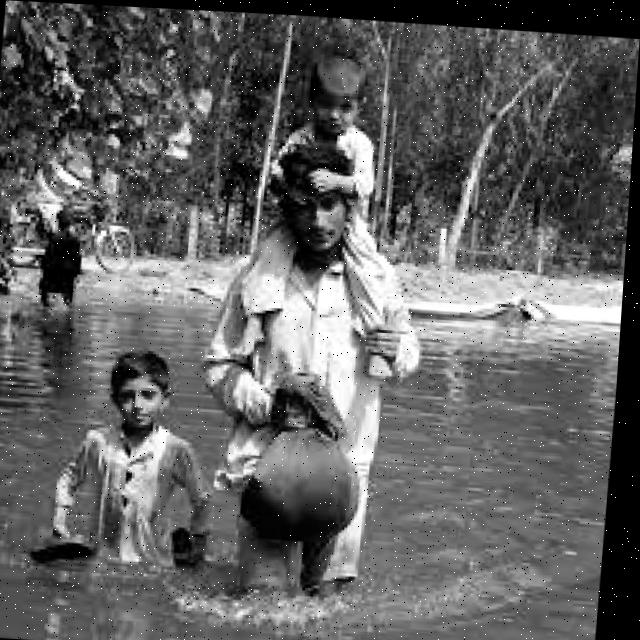civilian: (201, 143, 448, 617), (236, 37, 429, 384), (39, 335, 233, 571)
